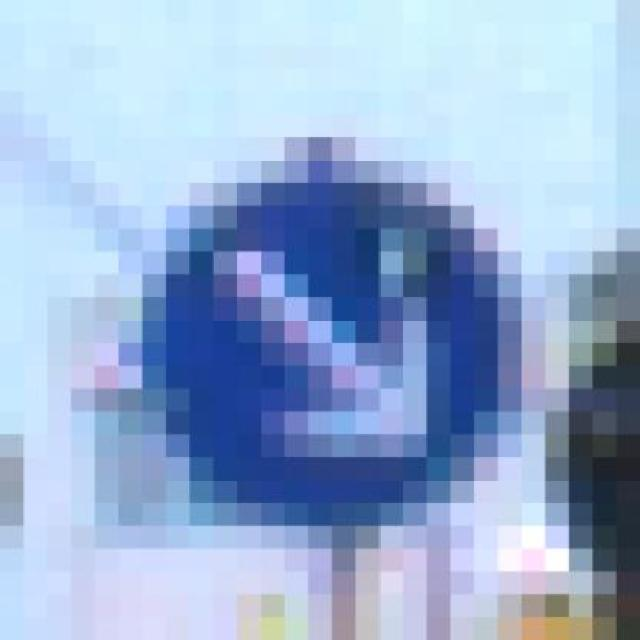Keep-Right: (94, 114, 568, 549)
